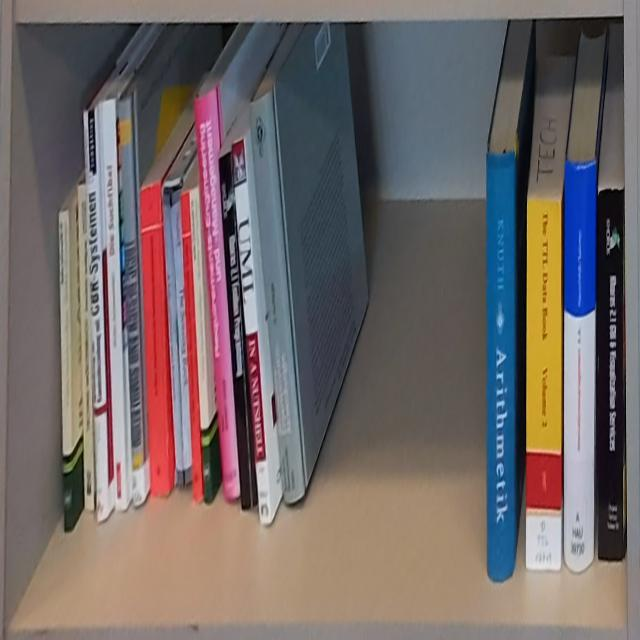Book Spine: (249, 86, 305, 504), (195, 86, 240, 502), (232, 137, 271, 526), (219, 151, 258, 511), (563, 160, 596, 577), (526, 199, 562, 573), (487, 150, 515, 588), (100, 97, 128, 510), (118, 92, 145, 507), (84, 106, 109, 525), (162, 183, 193, 489), (140, 182, 170, 496), (598, 187, 623, 563), (190, 185, 213, 504), (181, 190, 203, 502), (78, 182, 94, 513), (59, 209, 73, 533)
